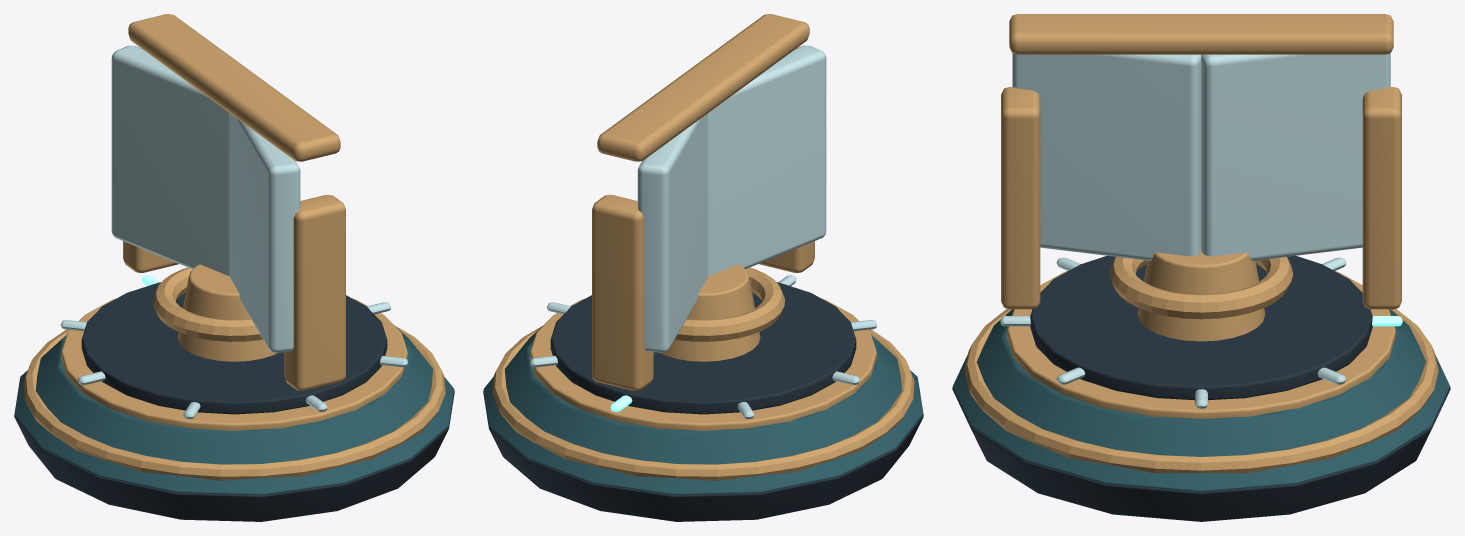
Rendered from quadBender.glb.
3 views of the same model, side by side, from view 1: azimuth 30°, elevation 25°; view 2: azimuth 150°, elevation 25°; view 3: azimuth 270°, elevation 25° (orthographic). The views are drawn at different scales.
Visible parts, largest first — view 1: quadBender; view 2: quadBender; view 3: quadBender.
Part boxes in pixels (left/top/right/bottom): quadBender: left=14, top=14, right=454, bottom=521; quadBender: left=483, top=14, right=923, bottom=521; quadBender: left=952, top=14, right=1450, bottom=521.
Size of the model in its own units: 1.08 by 0.956 by 1.08.
